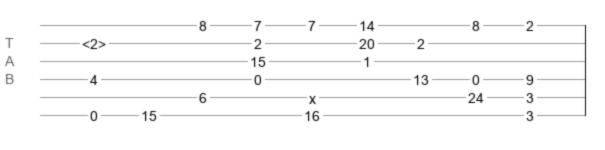0: (90, 108, 98, 118), (254, 72, 262, 82), (472, 72, 480, 82)
1: (363, 54, 371, 64)
13: (413, 72, 429, 82)
14: (359, 18, 375, 28)
15: (141, 108, 157, 118), (250, 54, 266, 64)
16: (304, 108, 320, 118)
2: (254, 36, 262, 46), (417, 36, 425, 46), (526, 18, 534, 28)
20: (359, 36, 375, 46)
24: (468, 90, 484, 100)
3: (526, 90, 534, 100), (526, 108, 534, 118)
4: (90, 72, 98, 82)
6: (199, 90, 207, 100)
7: (254, 18, 262, 28), (308, 18, 316, 28)
8: (199, 18, 207, 28), (472, 18, 480, 28)
9: (526, 72, 534, 82)
harmonic: (82, 36, 106, 46)
x: (309, 91, 316, 99)
